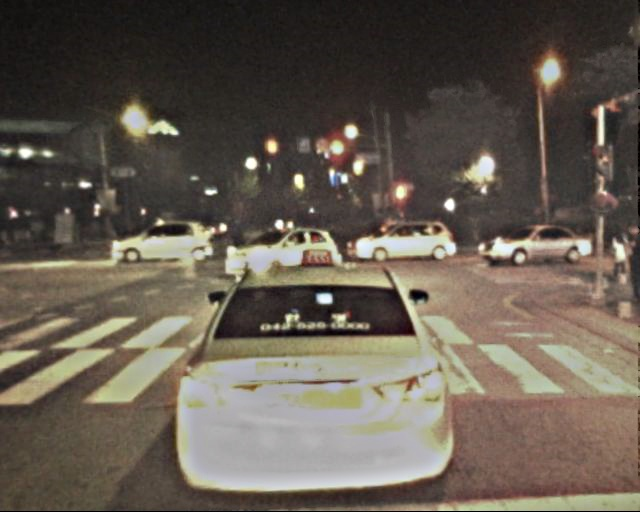person: (608, 228, 631, 284), (112, 220, 126, 254), (288, 218, 300, 248)
